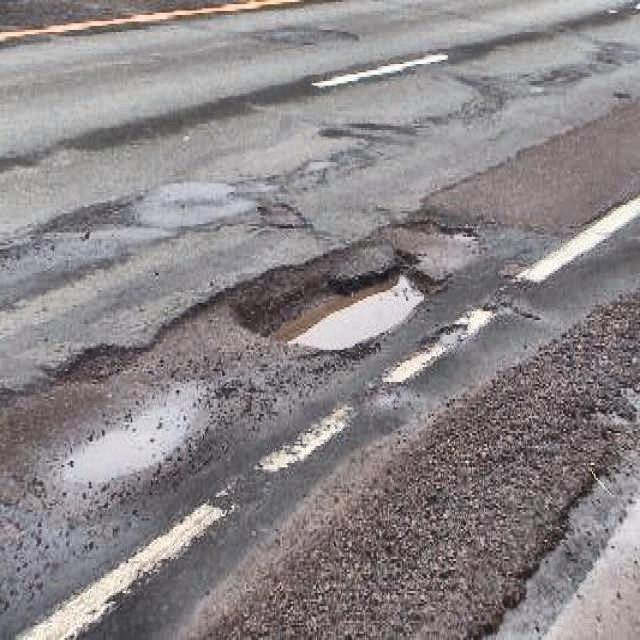Pothole: (232, 240, 442, 358), (60, 340, 139, 390), (442, 220, 480, 243)
